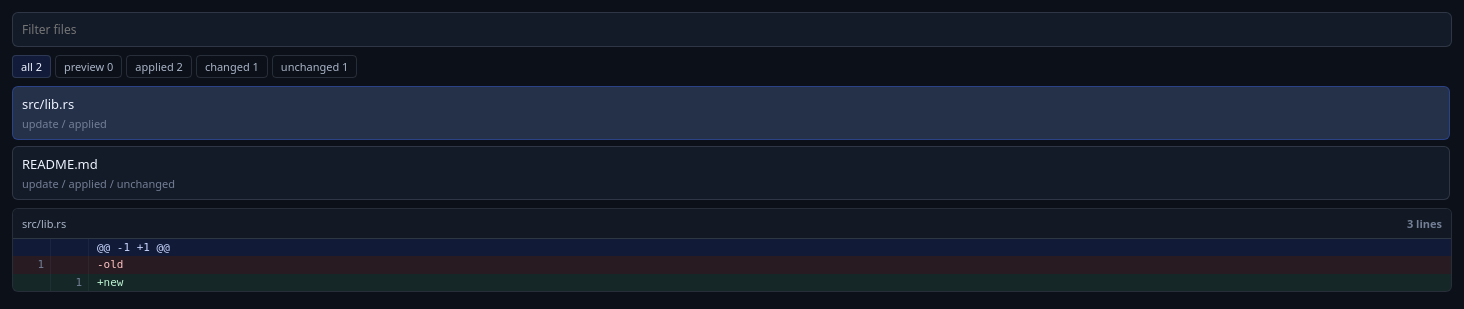
ChangeSetPanel › filters by change state without hiding counts
Click the button "unchanged 1" at coordinates (315, 66), box [272, 55, 357, 78]
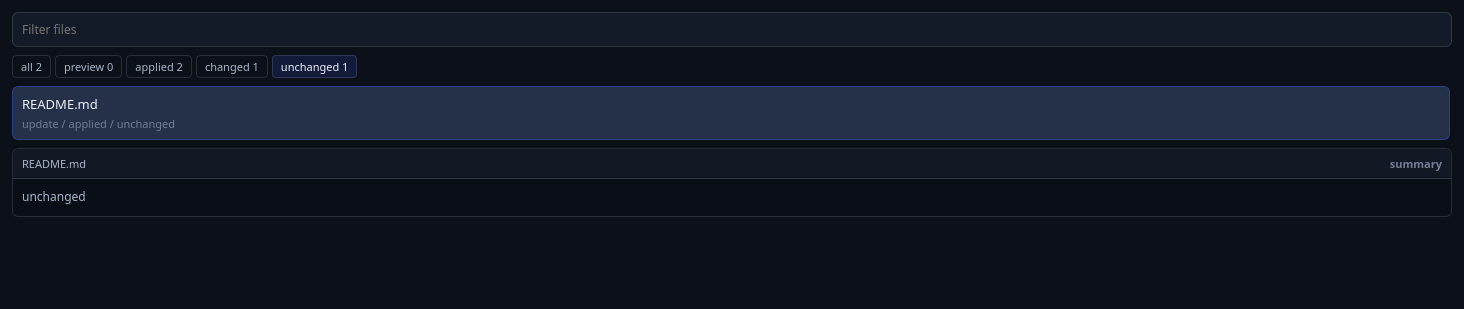
Expected: the button "README.md update / applied / unchanged" is shown, [12, 86, 1450, 140]
Result: the button "src/lib.rs" is gone
